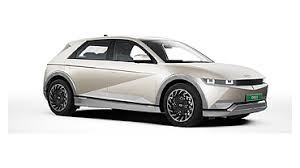Honda Ioniq: (27, 29, 281, 140)
